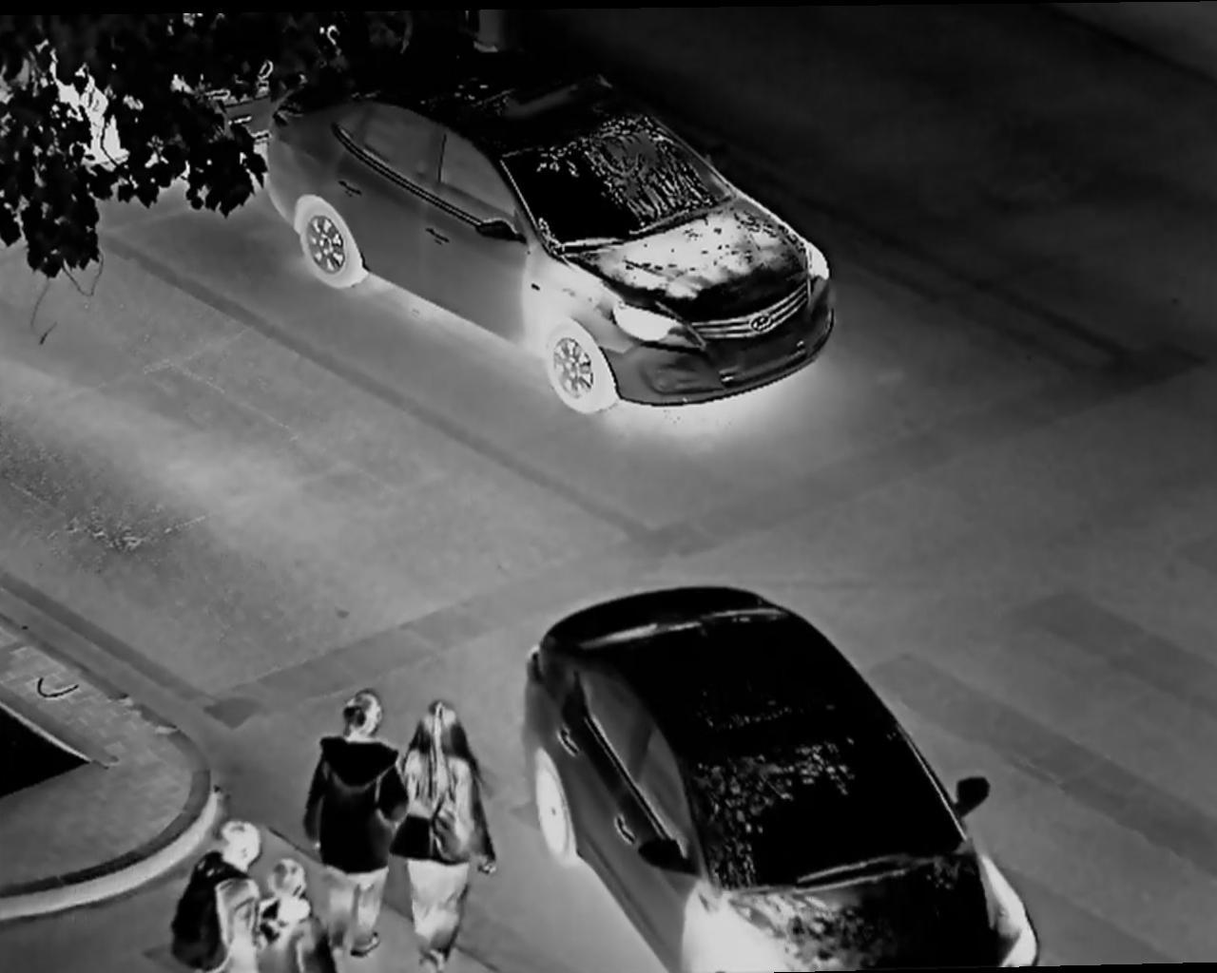person: (402, 697, 508, 973), (301, 677, 400, 962), (168, 815, 262, 972), (256, 849, 342, 973)
